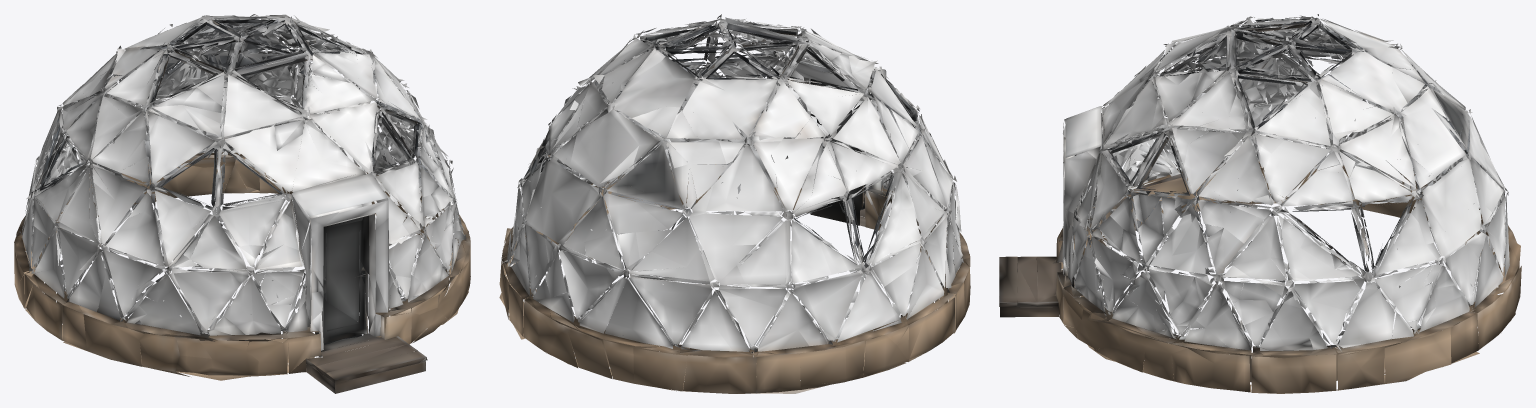
Rendered from dome.glb.
3 renders of one model, left to right at view 1: azimuth 30°, elevation 25°; view 2: azimuth 150°, elevation 25°; view 3: azimuth 270°, elevation 25°, orthographic. The views are drawn at different scales.
Visible parts, largest first — view 1: LO.001; view 2: LO.001; view 3: LO.001.
Part boxes in pixels (<box>): LO.001: <box>14,14,470,393</box>; LO.001: <box>499,14,970,393</box>; LO.001: <box>999,14,1521,393</box>.
Size of the model in its own units: 1.73 by 1.06 by 1.91.
1 material, 1 textured.
